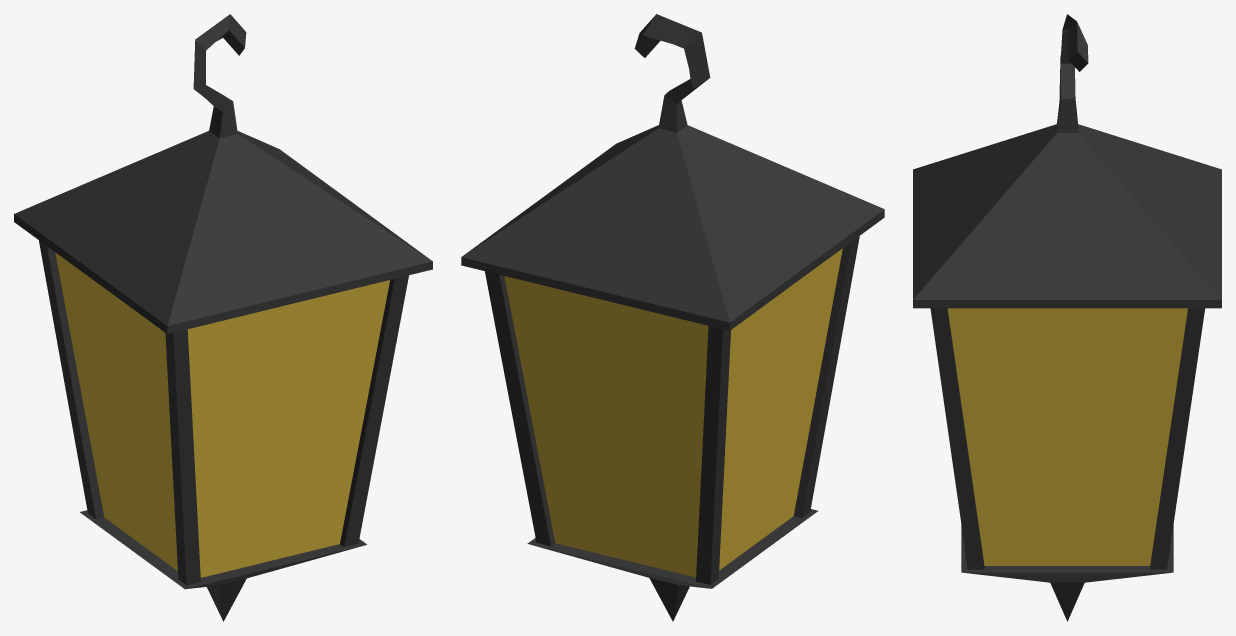
The model's file is gas_light_2_mat.fbx.
The picture shows the model from 3 angles, left to right: view 1: azimuth 30°, elevation 25°; view 2: azimuth 150°, elevation 25°; view 3: azimuth 270°, elevation 25°; orthographic projection.
Parts seen in each view (by area): view 1: gas_light_2_mat; view 2: gas_light_2_mat; view 3: gas_light_2_mat.
Part boxes in pixels (bbox=[...]): gas_light_2_mat: bbox=[14, 14, 432, 621]; gas_light_2_mat: bbox=[461, 14, 884, 621]; gas_light_2_mat: bbox=[913, 14, 1221, 621].
Bounding box in the file's own units: 70.68 × 153 × 70.68.
